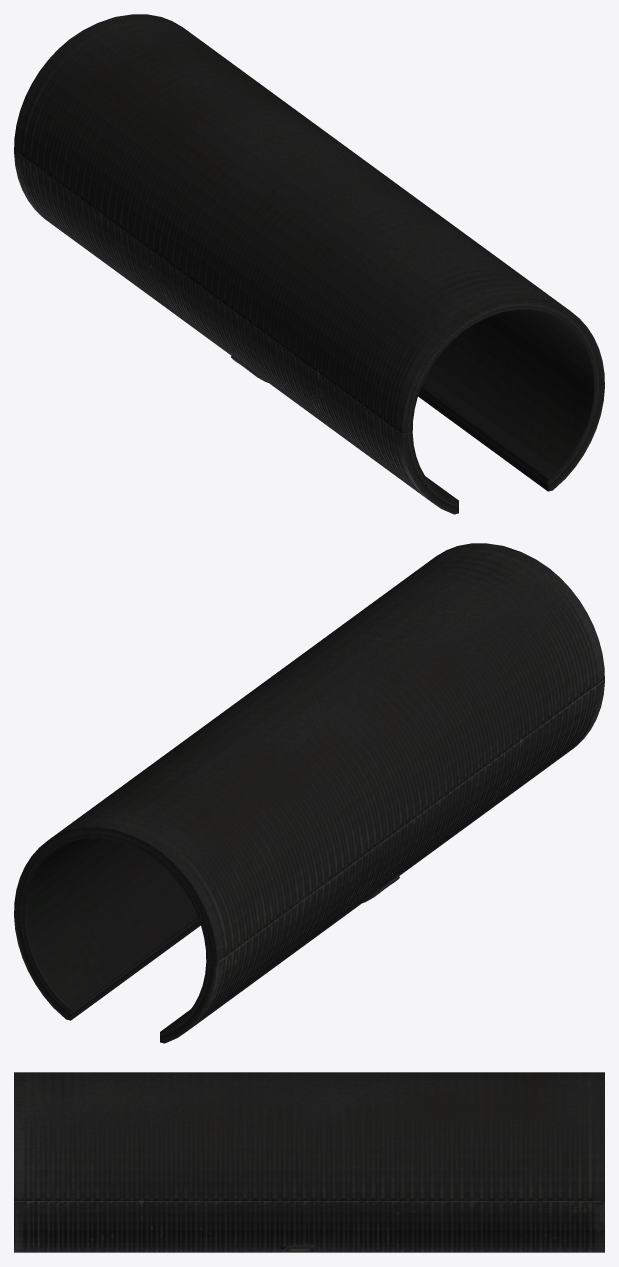
3 views of the same model, one above another, from view 1: azimuth 30°, elevation 25°; view 2: azimuth 150°, elevation 25°; view 3: azimuth 270°, elevation 25° (orthographic). The views are drawn at different scales.
Parts seen in each view (by area): view 1: TW_5926f34786f77469195bfe92_PZ_Import; view 2: TW_5926f34786f77469195bfe92_PZ_Import; view 3: TW_5926f34786f77469195bfe92_PZ_Import.
Part boxes in pixels (x1,y1,x2,y2): TW_5926f34786f77469195bfe92_PZ_Import: [14, 14, 604, 514]; TW_5926f34786f77469195bfe92_PZ_Import: [14, 543, 604, 1043]; TW_5926f34786f77469195bfe92_PZ_Import: [14, 1072, 604, 1252].
Size of the model in its own units: 0.0276 by 0.0914 by 0.0262.
Materials: 1 (1 with a texture image).
